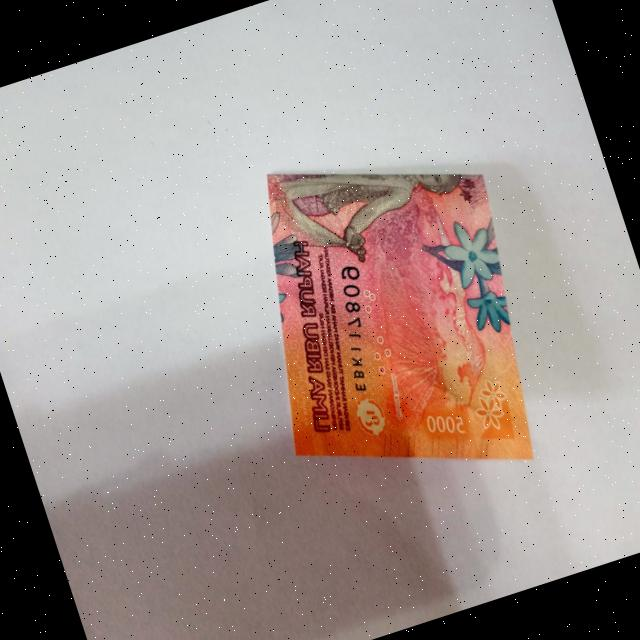5K: (189, 101, 585, 552)
